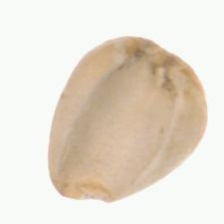L1: (121, 35, 184, 75), (50, 177, 114, 202)
L2: (47, 34, 208, 203)
